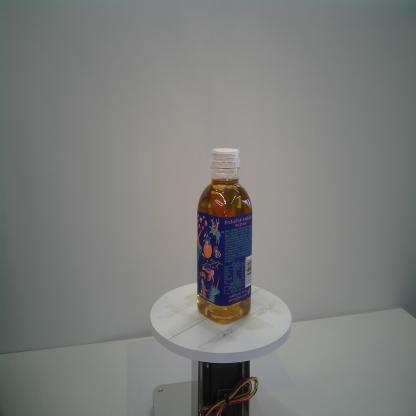Drink: (196, 147, 253, 326)
